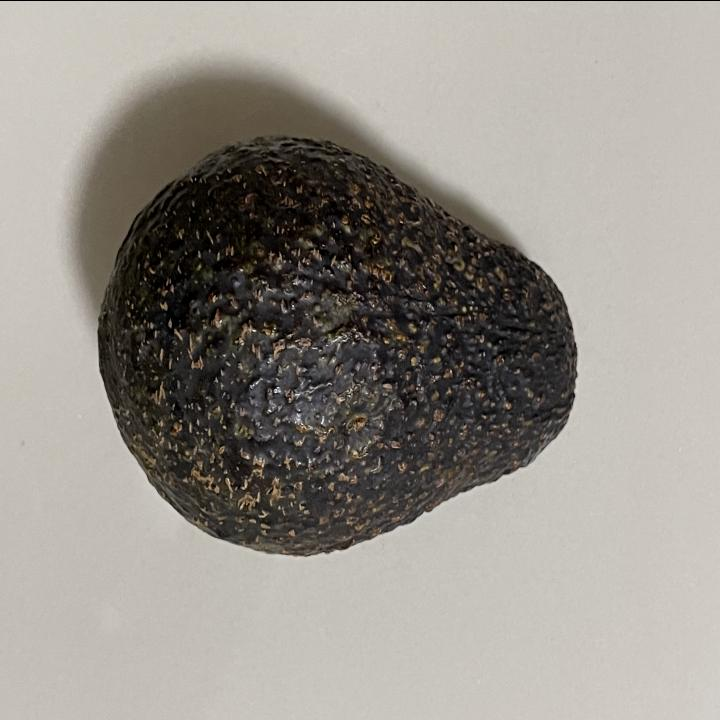Level2: (92, 125, 584, 563)
